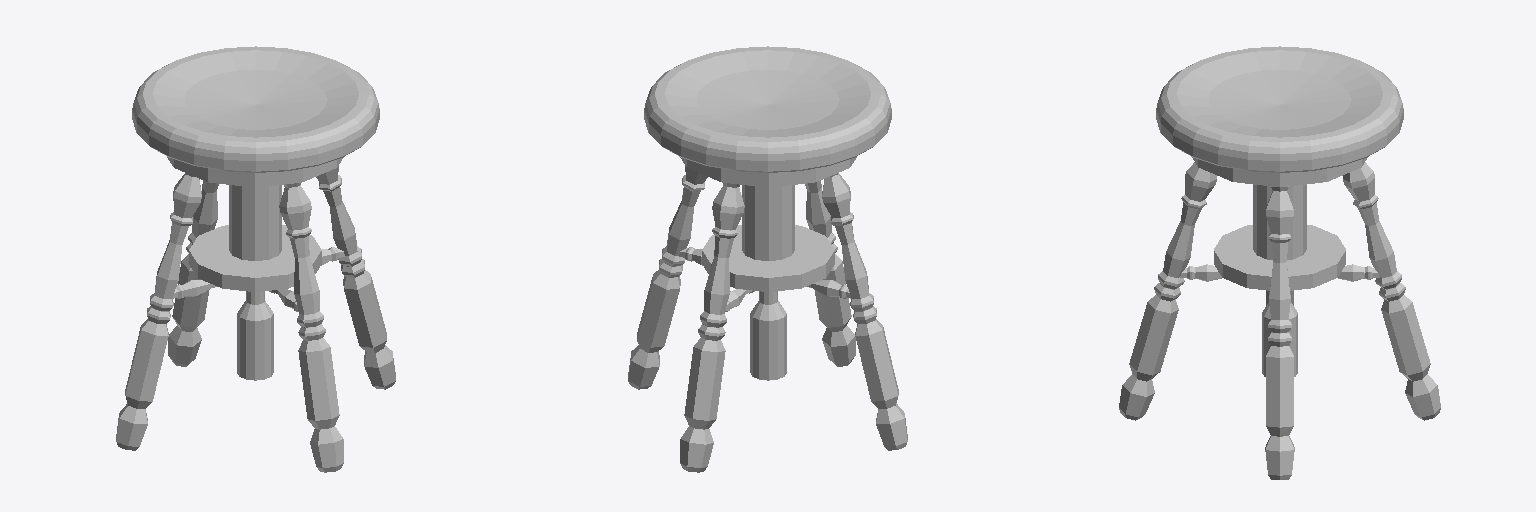
File: chair.obj
3 renders of one model, left to right at view 1: azimuth 30°, elevation 25°; view 2: azimuth 150°, elevation 25°; view 3: azimuth 270°, elevation 25°, orthographic.
Parts seen in each view (by area): view 1: Mesh; view 2: Mesh; view 3: Mesh.
Part boxes in pixels (bbox=[...]): Mesh: bbox=[116, 46, 395, 472]; Mesh: bbox=[628, 46, 907, 472]; Mesh: bbox=[1119, 46, 1440, 479].
Size of the model in its own units: 1.22 by 1.36 by 1.22.